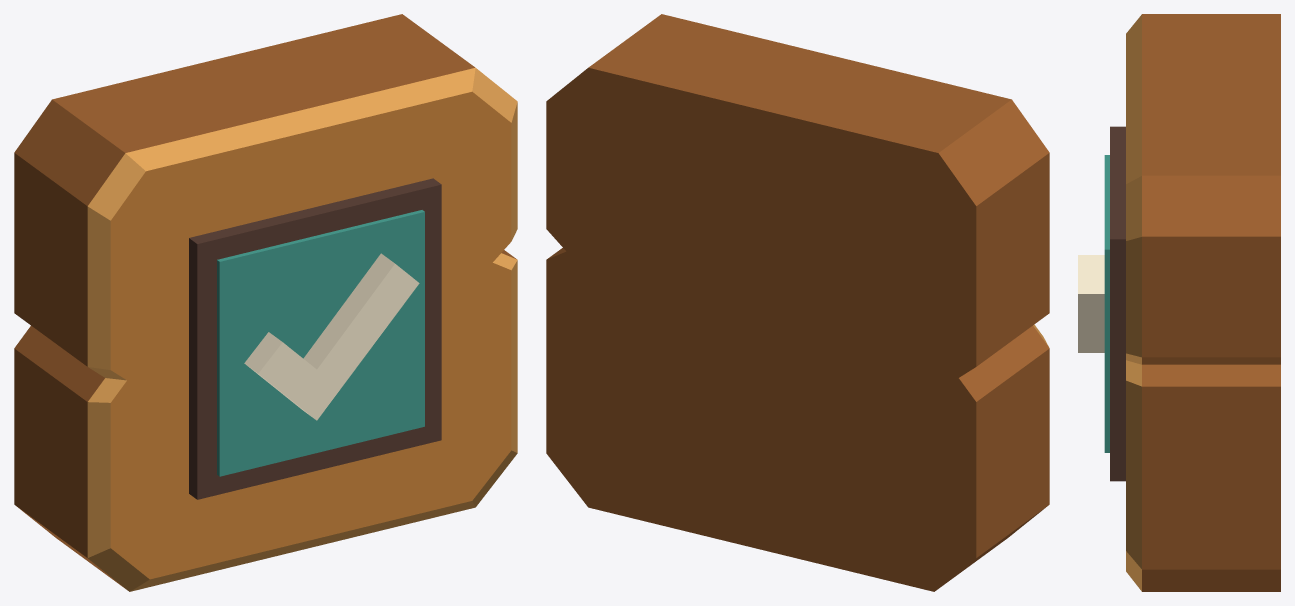
The model's file is CheckOn.fbx.
3 views of the same model, side by side, from view 1: azimuth 30°, elevation 25°; view 2: azimuth 150°, elevation 25°; view 3: azimuth 270°, elevation 25° (orthographic). The views are drawn at different scales.
Parts seen in each view (by area): view 1: Stone, Inset, Recess, Check; view 2: Stone; view 3: Stone, Recess, Check, Inset.
Part boxes in pixels (x1,y1,x2,y2): Stone: [14, 14, 517, 591]; Inset: [217, 210, 424, 476]; Recess: [189, 178, 441, 499]; Check: [244, 253, 419, 420]; Stone: [546, 14, 1049, 591]; Stone: [1126, 14, 1280, 591]; Recess: [1110, 126, 1125, 481]; Check: [1078, 255, 1104, 352]; Inset: [1104, 155, 1109, 452].
Bounding box in the file's own units: 0.088 × 0.086 × 0.038.
